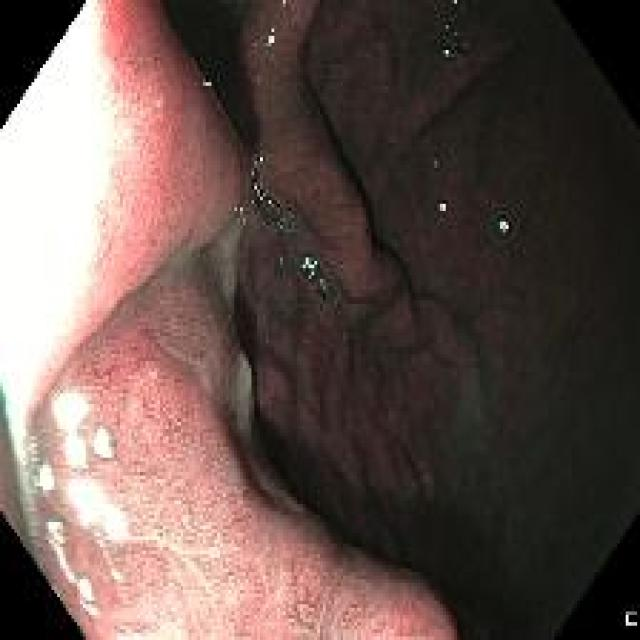bubbles: (255, 194, 285, 218), (312, 278, 331, 299), (154, 531, 167, 550), (389, 135, 402, 154), (383, 341, 395, 360), (429, 158, 441, 176), (442, 22, 454, 36)
contrast: (295, 176, 634, 631), (170, 7, 256, 159), (257, 410, 312, 512), (235, 281, 259, 364)
saturation: (7, 5, 115, 464), (23, 447, 224, 627)
specularity: (64, 480, 129, 541), (50, 386, 89, 469), (46, 521, 77, 584), (248, 153, 271, 202), (95, 424, 118, 465), (299, 251, 327, 284), (36, 467, 57, 495), (79, 594, 100, 620), (77, 571, 94, 603), (265, 23, 280, 55), (498, 214, 513, 245), (109, 561, 126, 584), (196, 71, 215, 91), (436, 195, 450, 218), (439, 43, 456, 61), (277, 321, 289, 342), (94, 531, 105, 548)
